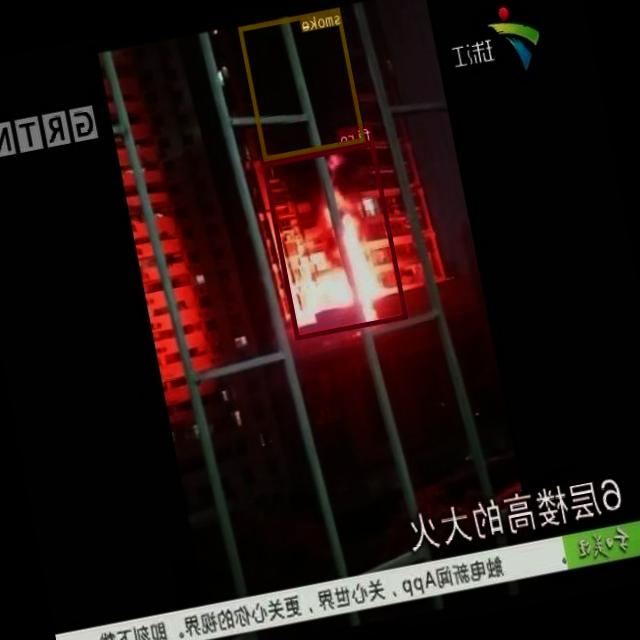fire: (263, 140, 408, 339)
smoke: (240, 7, 366, 160)
